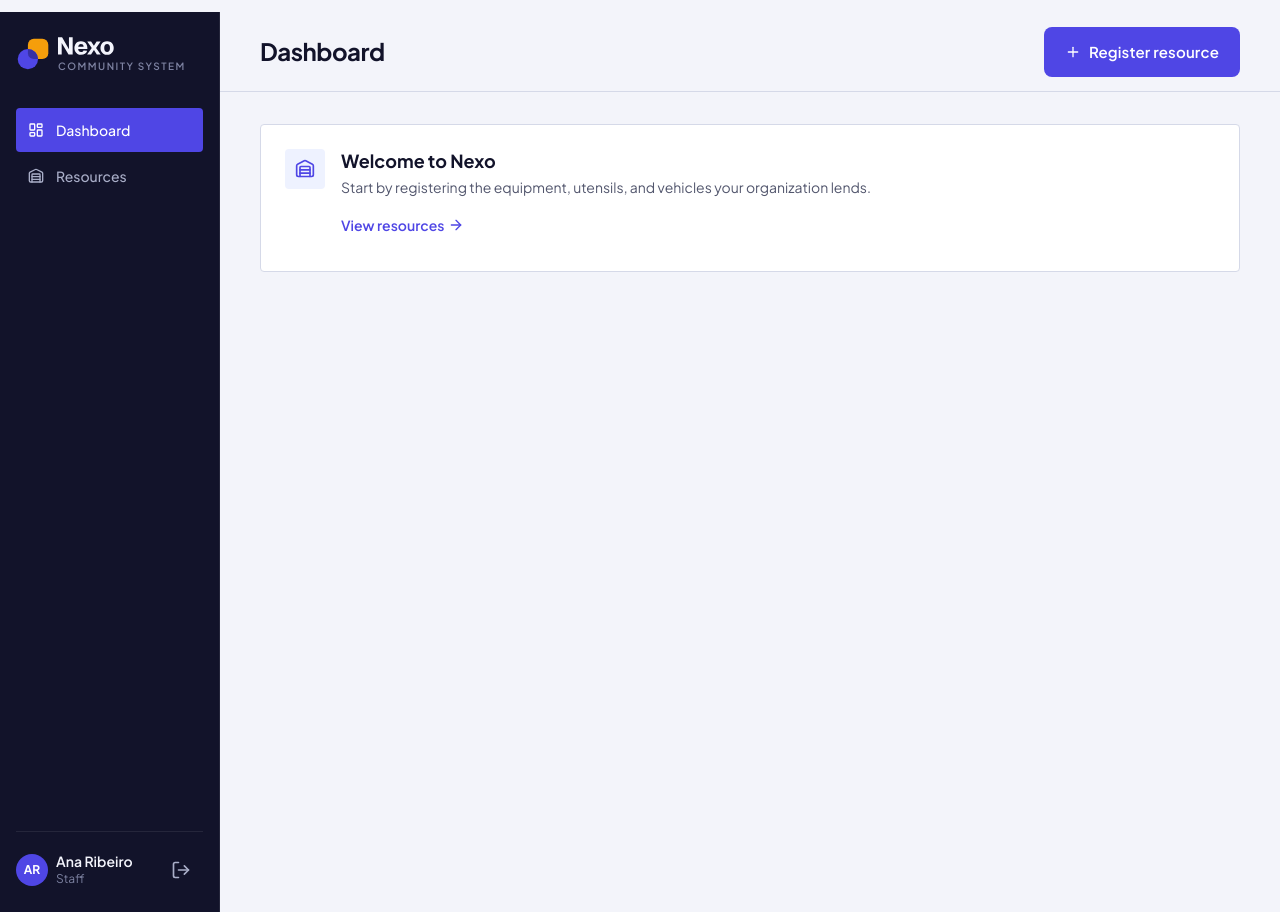
Test case: AppLayout and DashboardPage › given the Resources link, when clicked, then the resources page opens
Click the link "Resources" at {"x": 77, "y": 176}, box [28,167,127,185]
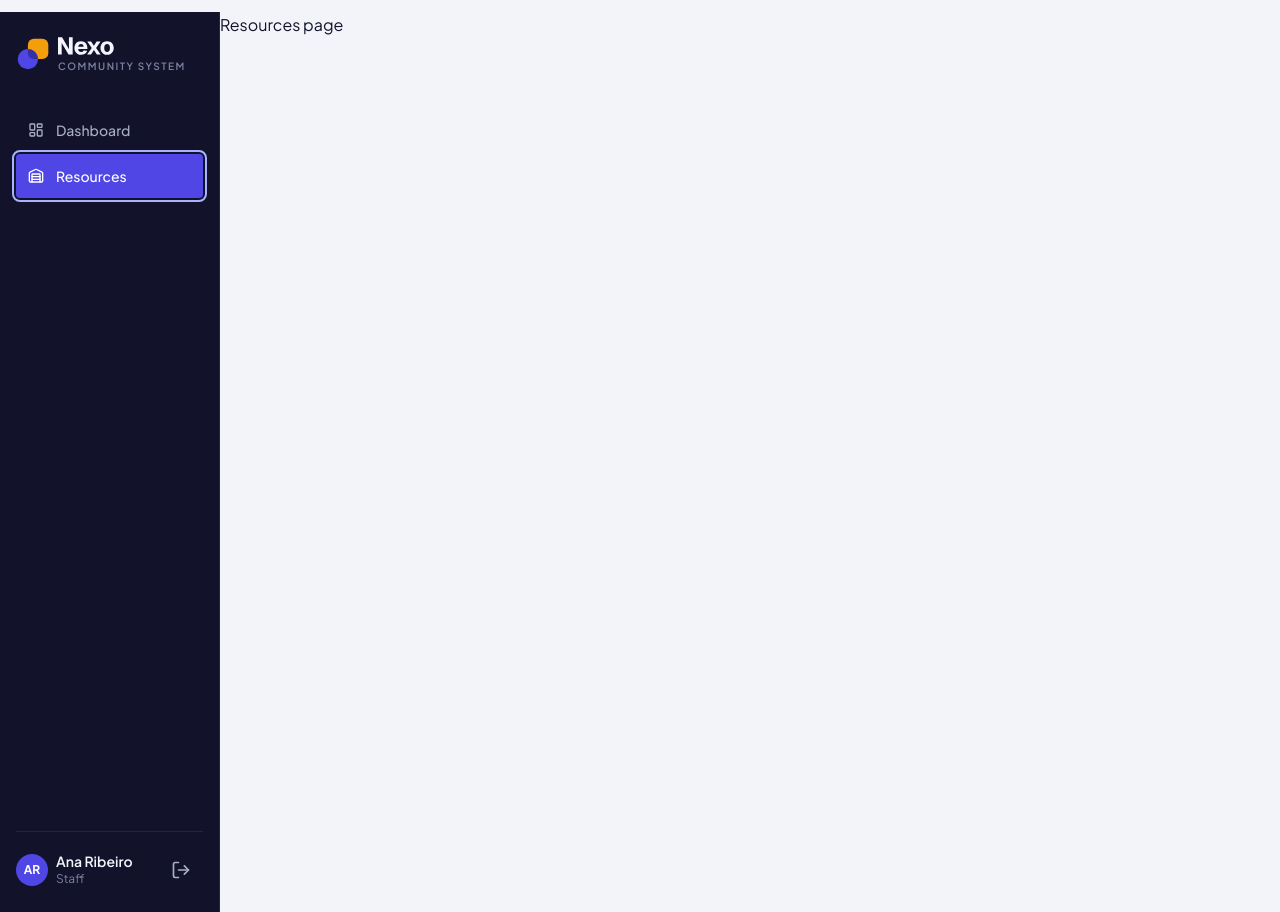
expect the text "Resources page" is shown: met, box [220,14,343,35]
